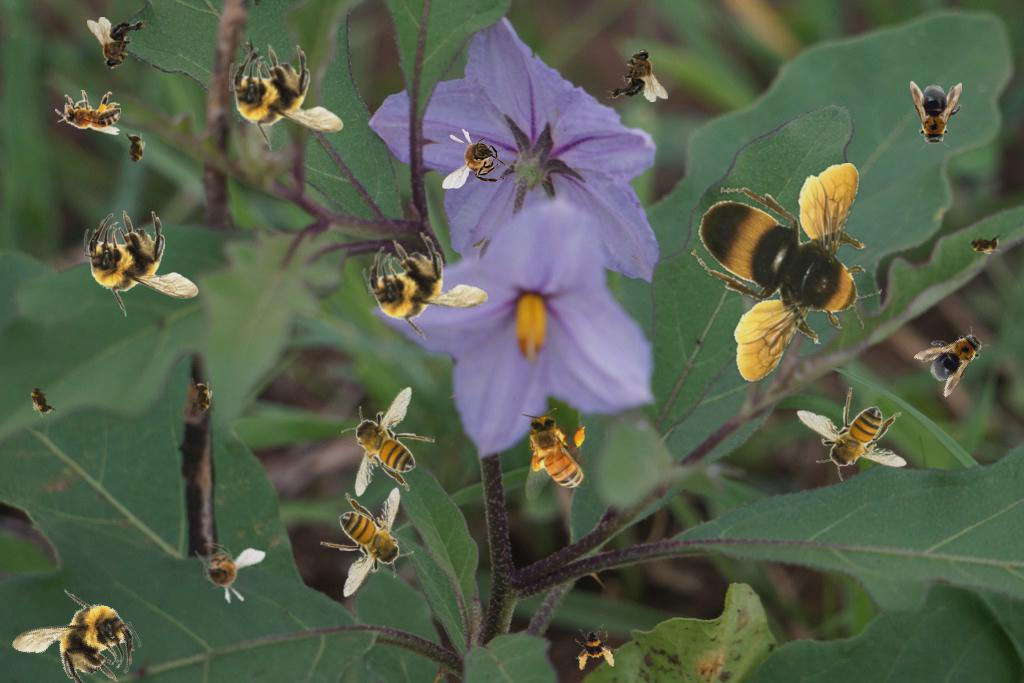Bee: (691, 163, 882, 383), (354, 217, 497, 354), (0, 568, 153, 683), (84, 210, 199, 317), (229, 44, 344, 151), (341, 386, 435, 497), (320, 487, 414, 598), (796, 387, 907, 481), (912, 314, 998, 398), (182, 531, 267, 611), (521, 408, 589, 501), (442, 128, 512, 189), (910, 81, 962, 149), (87, 17, 149, 70), (606, 49, 668, 102), (55, 90, 121, 135), (570, 622, 622, 674), (22, 377, 60, 423), (124, 129, 146, 169), (964, 233, 1004, 255), (191, 378, 213, 418)
